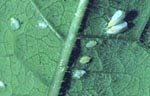whitefly: (103, 8, 126, 29), (105, 22, 129, 34)
